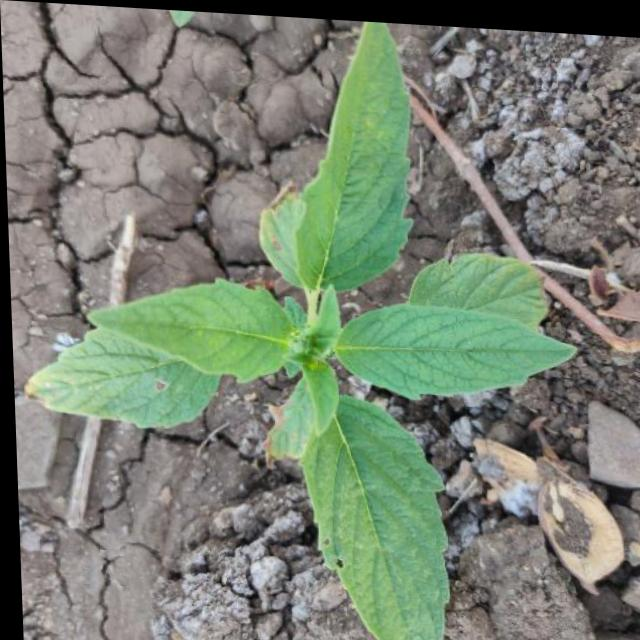crop: (19, 11, 591, 640)
